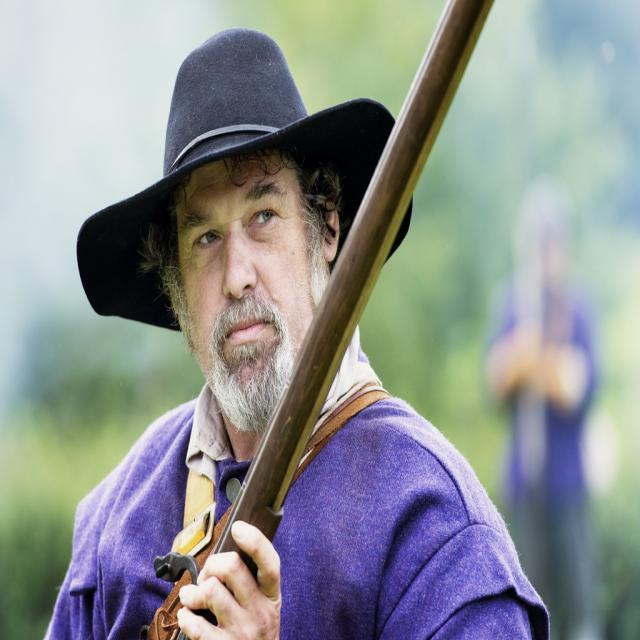weapon: (136, 0, 493, 638)
